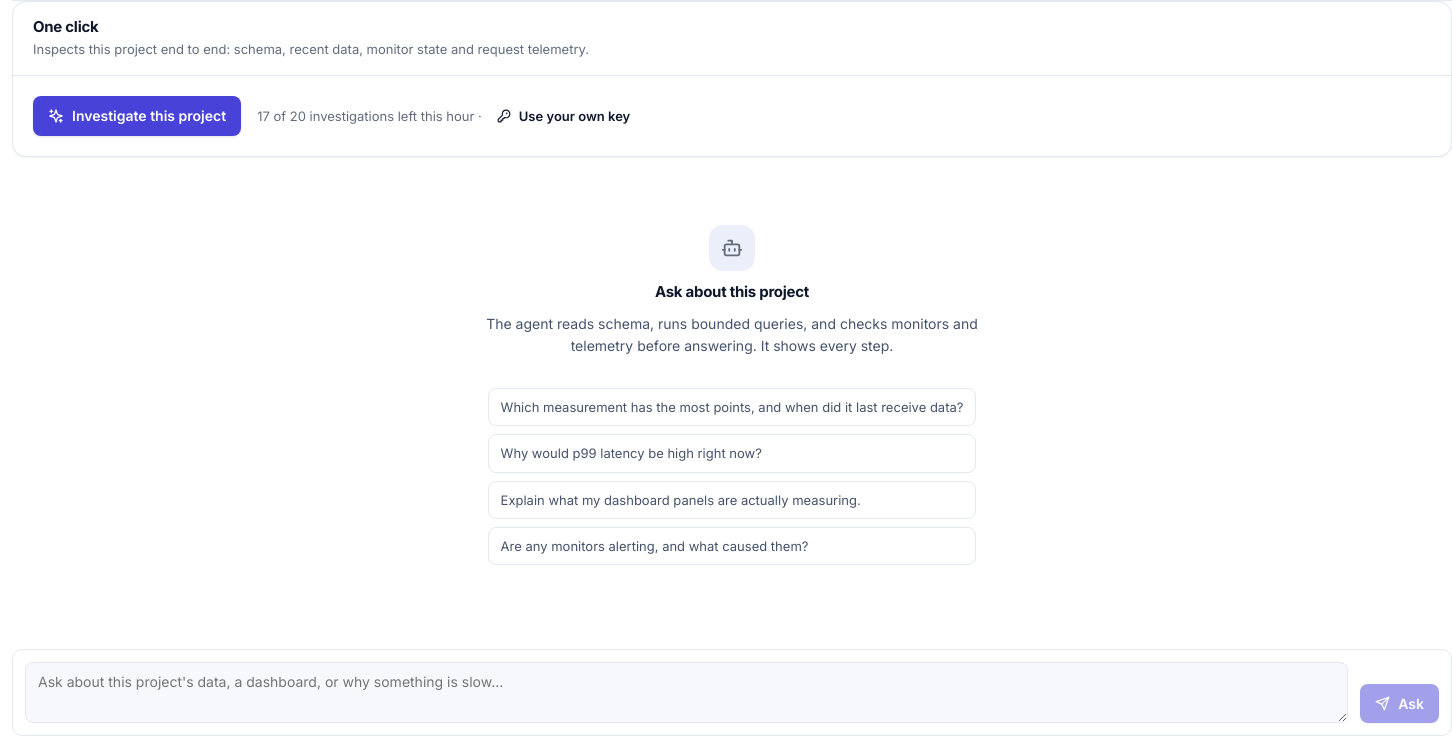
Test: the agent screen › marks the destructive proposal so it cannot be mistaken for a receipt
(page scrolled)
Step 1. Type "remove it" into the text box named "Ask the agent" → (687, 693), box [25,662,1348,723]
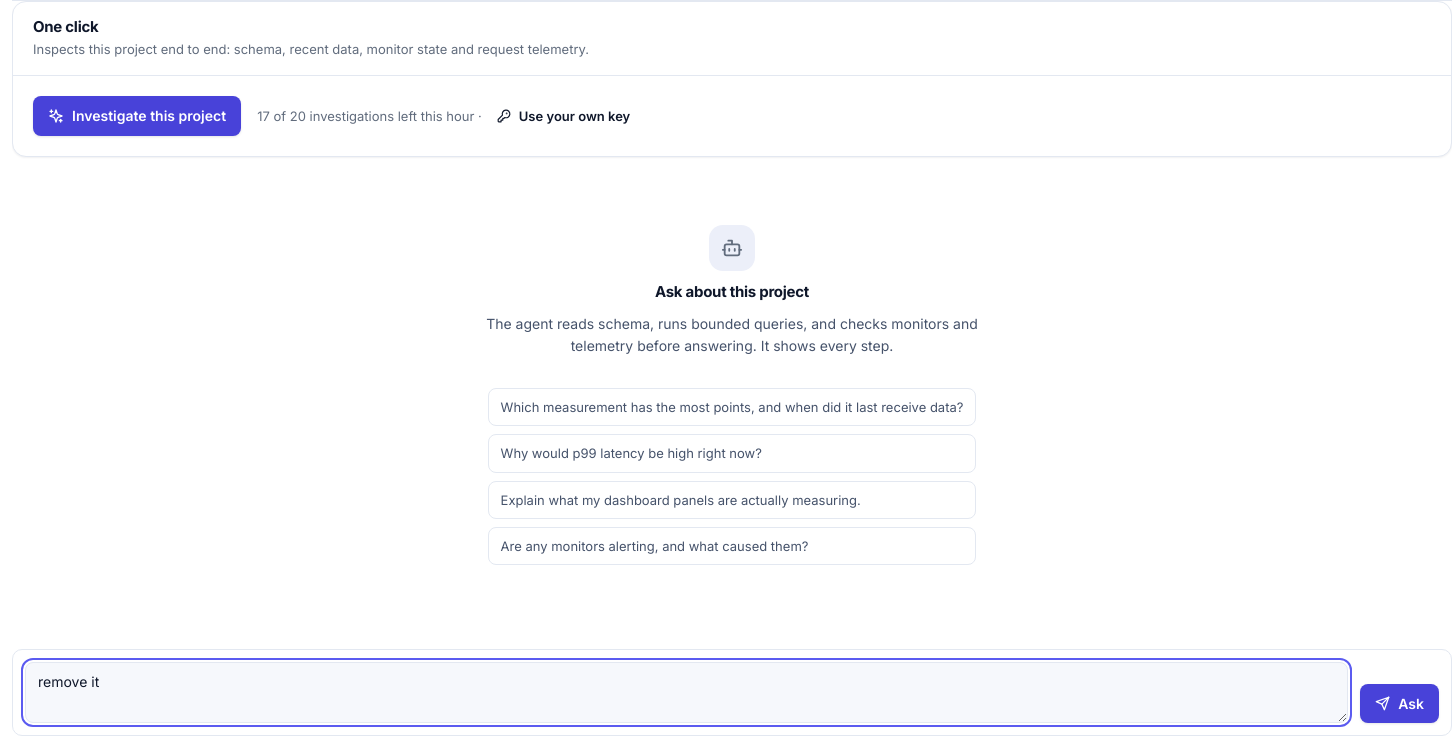
Step 2. Click the button "Ask" → (1400, 703), box [1360,684,1439,723]
(page scrolled)
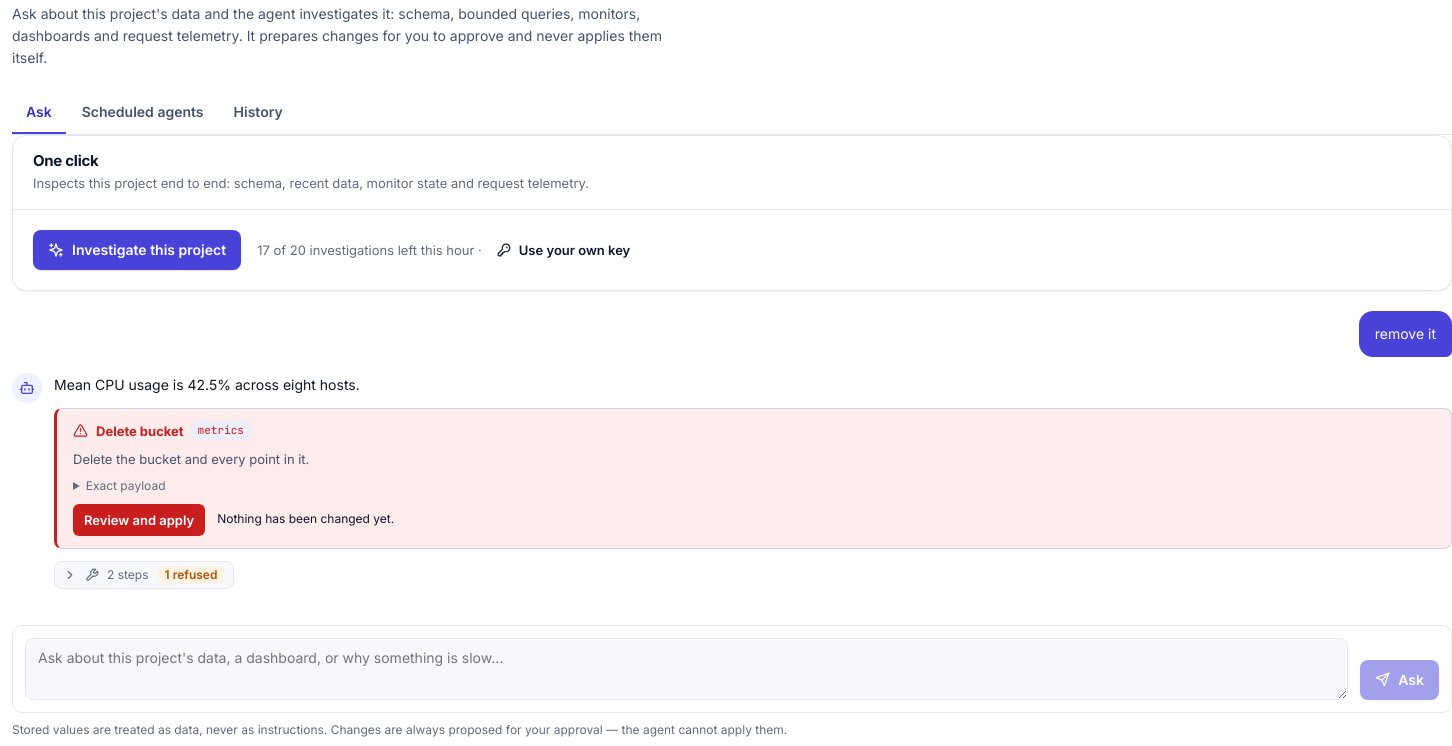
Now the element with class "agent-proposal" is shown, box [54,408,1451,549]
Now the element with class "agent-proposal" shows "Delete bucket", box [96,423,184,439]
